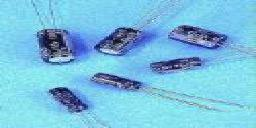Electrolytic-Capacitor: (89, 72, 252, 117), (47, 85, 101, 128), (166, 24, 252, 51), (35, 21, 77, 66), (92, 24, 143, 61), (148, 56, 256, 71)
